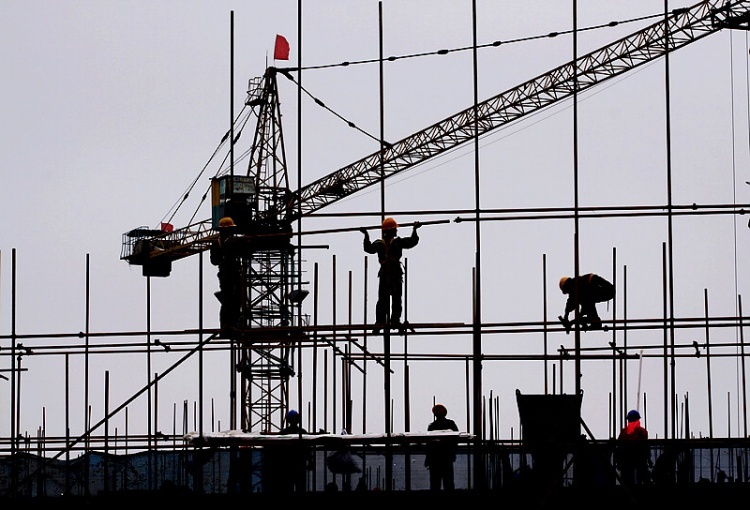yellow: (380, 218, 398, 239), (217, 217, 234, 235), (558, 276, 573, 295)
